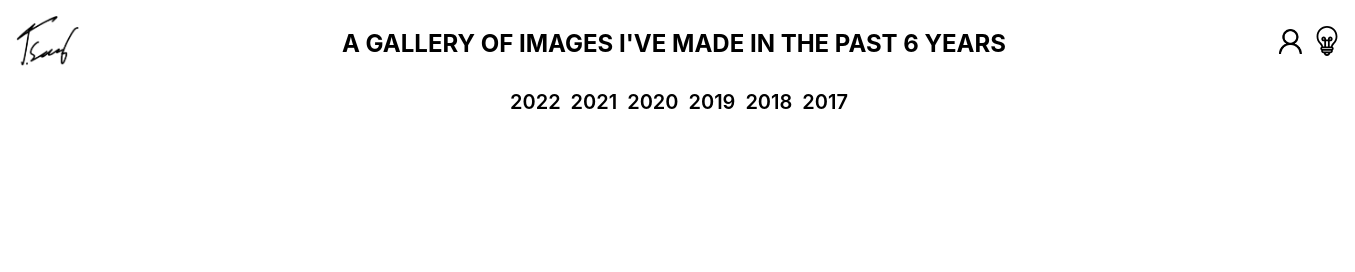
Test case: admin stuff works › navigates to gallery
Click the picture with id "admin": (1291, 42) [1279,29,1302,54]
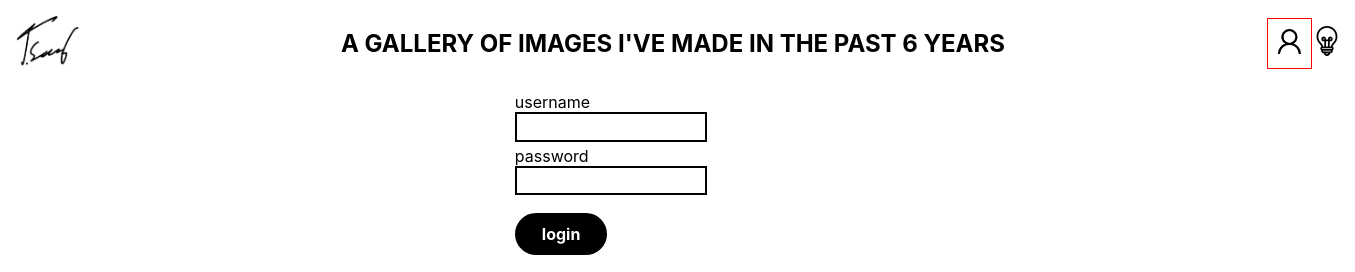
Click the picture with id "signature": (48, 41) [16,16,79,66]
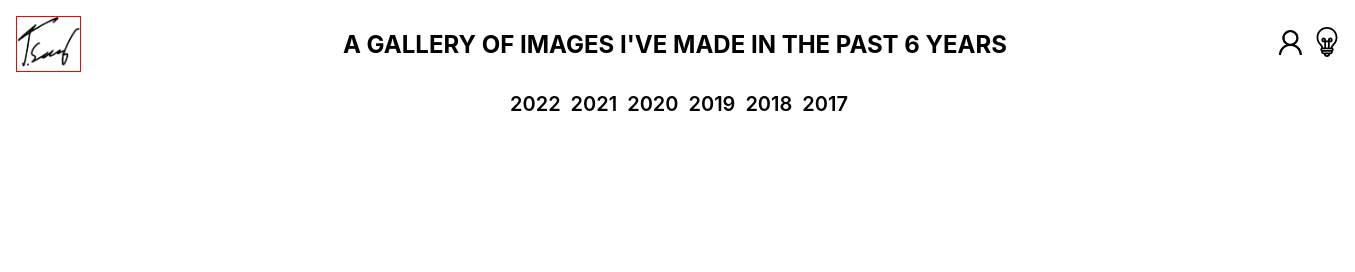
Now the button "2018" is shown, box [745,92,792,116]
